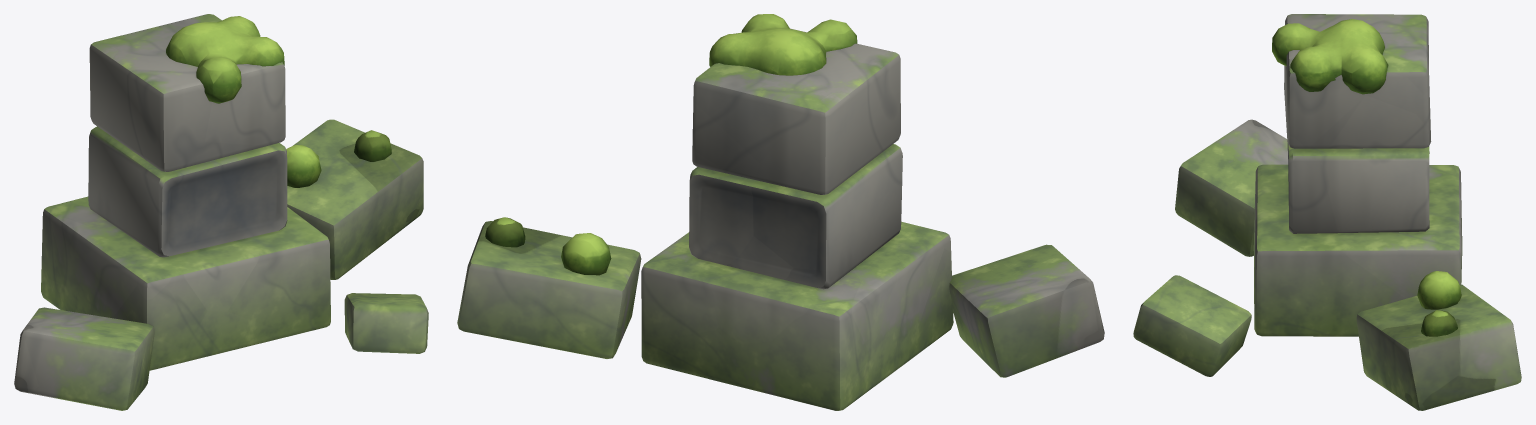
The model's file is ruin_rubble.glb.
3 renders of one model, left to right at view 1: azimuth 30°, elevation 25°; view 2: azimuth 150°, elevation 25°; view 3: azimuth 270°, elevation 25°, orthographic. The views are drawn at different scales.
Visible parts, largest first — view 1: ruin_rubble; view 2: ruin_rubble; view 3: ruin_rubble.
Boxes of the visible parts, x1,y1,x2,y2 form: ruin_rubble: (14,14,428,410); ruin_rubble: (457,14,1104,410); ruin_rubble: (1133,14,1521,410).
Size of the model in its own units: 2.37 by 1.35 by 1.65.
Materials: 1 (1 with a texture image).
